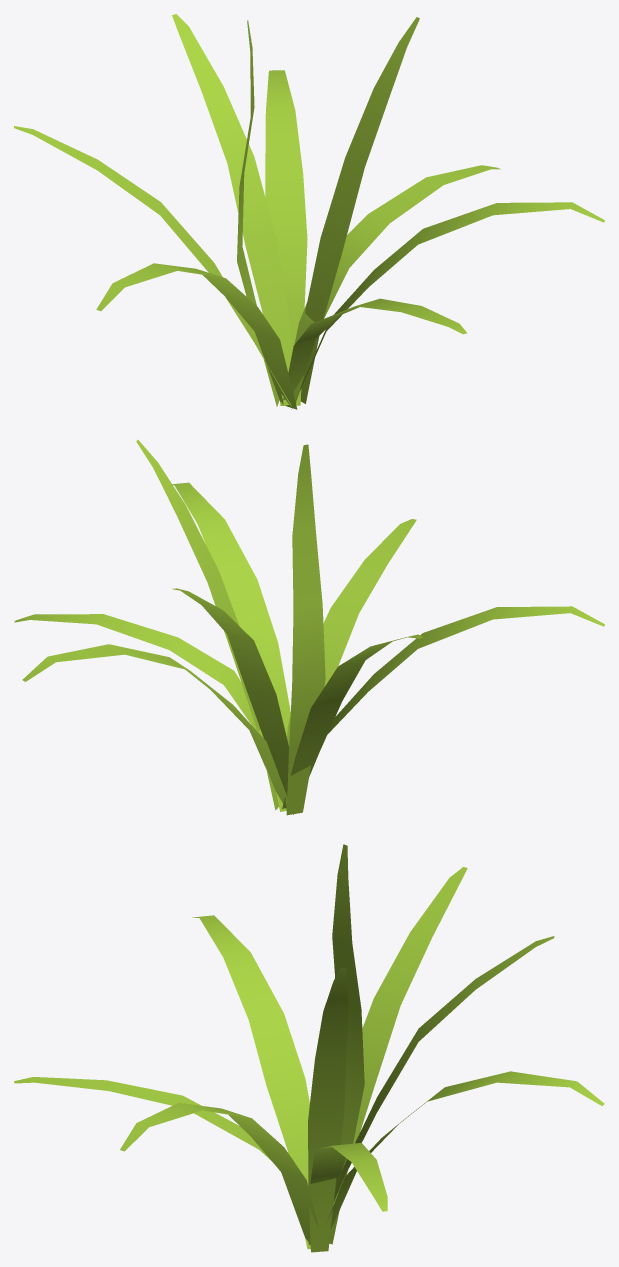
The model's file is grassSmall3d.fbx.
The picture shows the model from 3 angles, top to bottom: view 1: azimuth 30°, elevation 25°; view 2: azimuth 150°, elevation 25°; view 3: azimuth 270°, elevation 25°; orthographic projection.
Visible parts, largest first — view 1: Plane; view 2: Plane; view 3: Plane.
Part boxes in pixels (x1,y1,x2,y2): Plane: [14, 14, 604, 409]; Plane: [14, 440, 604, 815]; Plane: [14, 844, 604, 1252].
Bounding box in the file's own units: 16 × 11.8 × 16.24.
